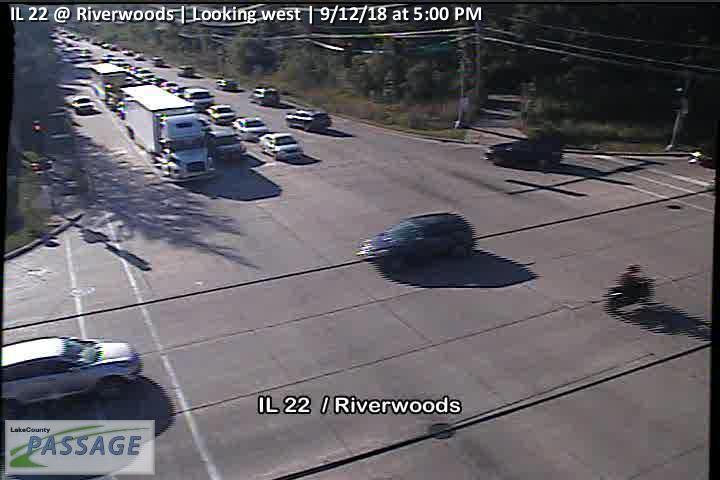Motorbike: (606, 263, 651, 313)
SUV: (1, 335, 141, 414), (358, 213, 475, 270), (486, 134, 562, 169), (203, 124, 246, 161), (259, 131, 304, 161), (286, 105, 332, 132), (180, 86, 213, 111), (247, 85, 279, 107), (176, 63, 192, 78)
Sedan: (232, 116, 270, 143), (206, 104, 235, 126), (213, 76, 238, 93), (70, 96, 94, 112)
Truck: (122, 85, 215, 182), (89, 62, 130, 106)
